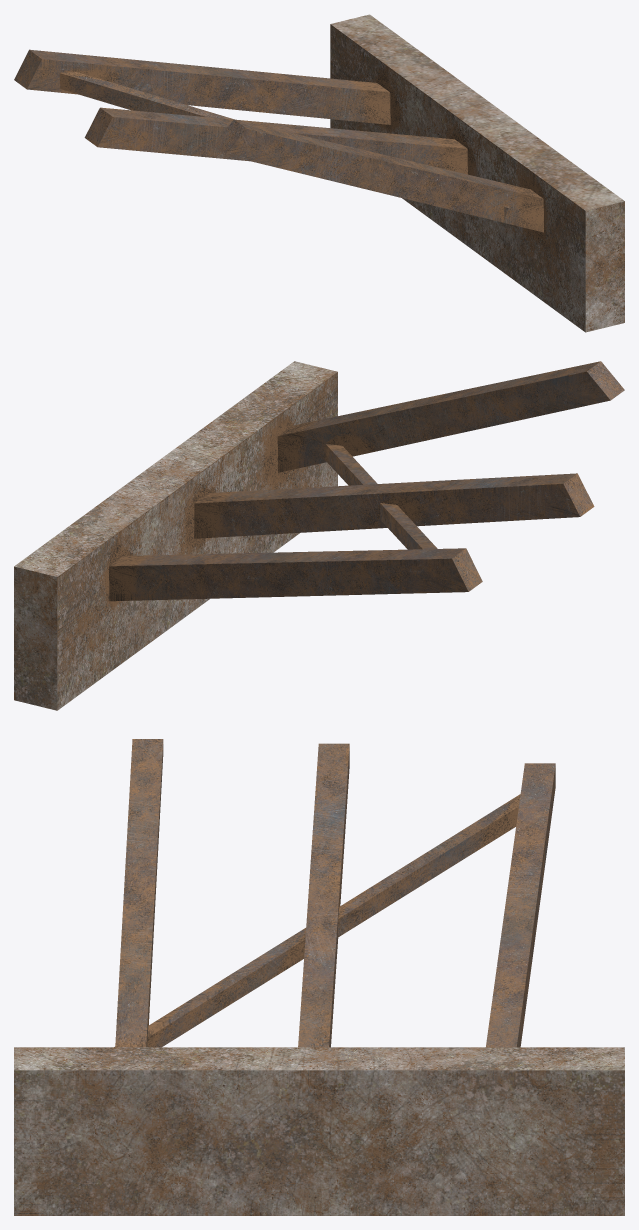
Rendered from ApoyoEdificio4.obj.
The picture shows the model from 3 angles, top to bottom: view 1: azimuth 30°, elevation 25°; view 2: azimuth 150°, elevation 25°; view 3: azimuth 270°, elevation 25°; orthographic projection. The views are drawn at different scales.
Visible parts, largest first — view 1: Box125; view 2: Box125; view 3: Box125.
Part boxes in pixels (<box>): Box125: <box>14,14,624,332</box>; Box125: <box>14,361,624,710</box>; Box125: <box>14,739,624,1215</box>.
Size of the model in its own units: 69.4 by 39.45 by 76.64.
1 material, 1 textured.
